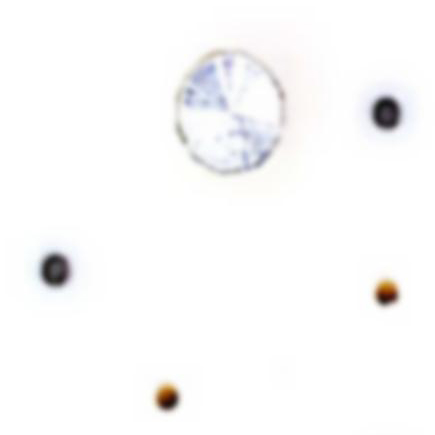abnormal: (151, 26, 317, 191)
cancer: (352, 76, 426, 156), (16, 235, 87, 312)
normal: (136, 372, 195, 426), (367, 264, 419, 322)
